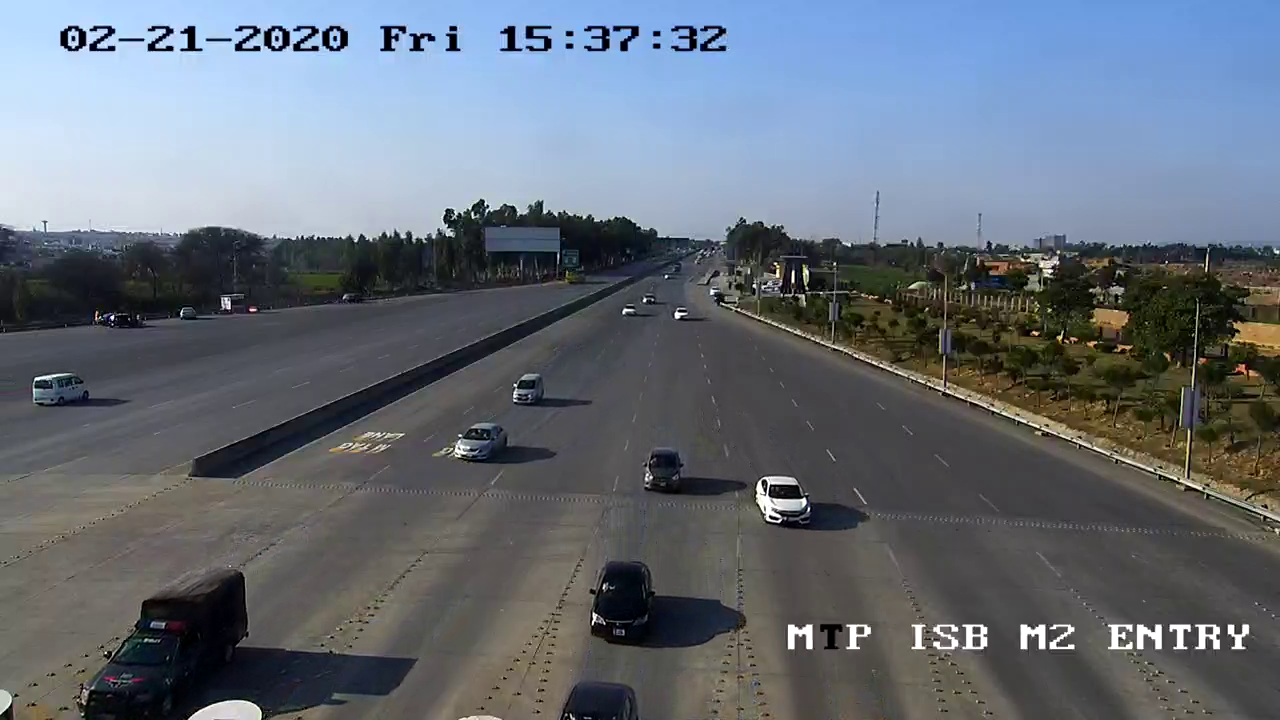f1: (59, 568, 272, 709), (574, 555, 677, 651), (748, 466, 828, 534), (448, 414, 517, 477), (639, 445, 694, 500), (500, 366, 554, 417)
